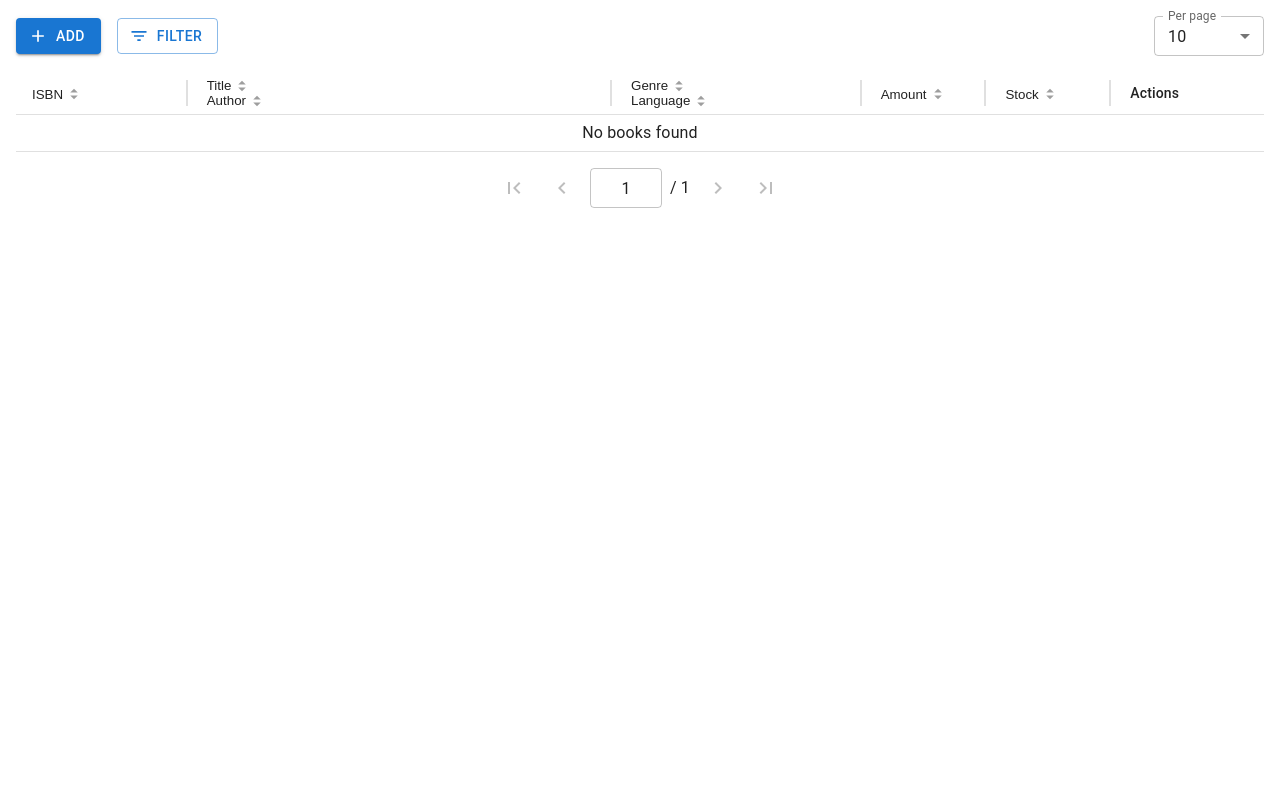
it: CataloguePage › shows an empty state and a load error
The width and height of the screenshot is (1280, 800).
Expected: the text with test id "catalogue-empty" reads "No books found", [582, 123, 698, 142]
Click the button with test id "catalogue-filter": (168,36) [117, 18, 218, 54]
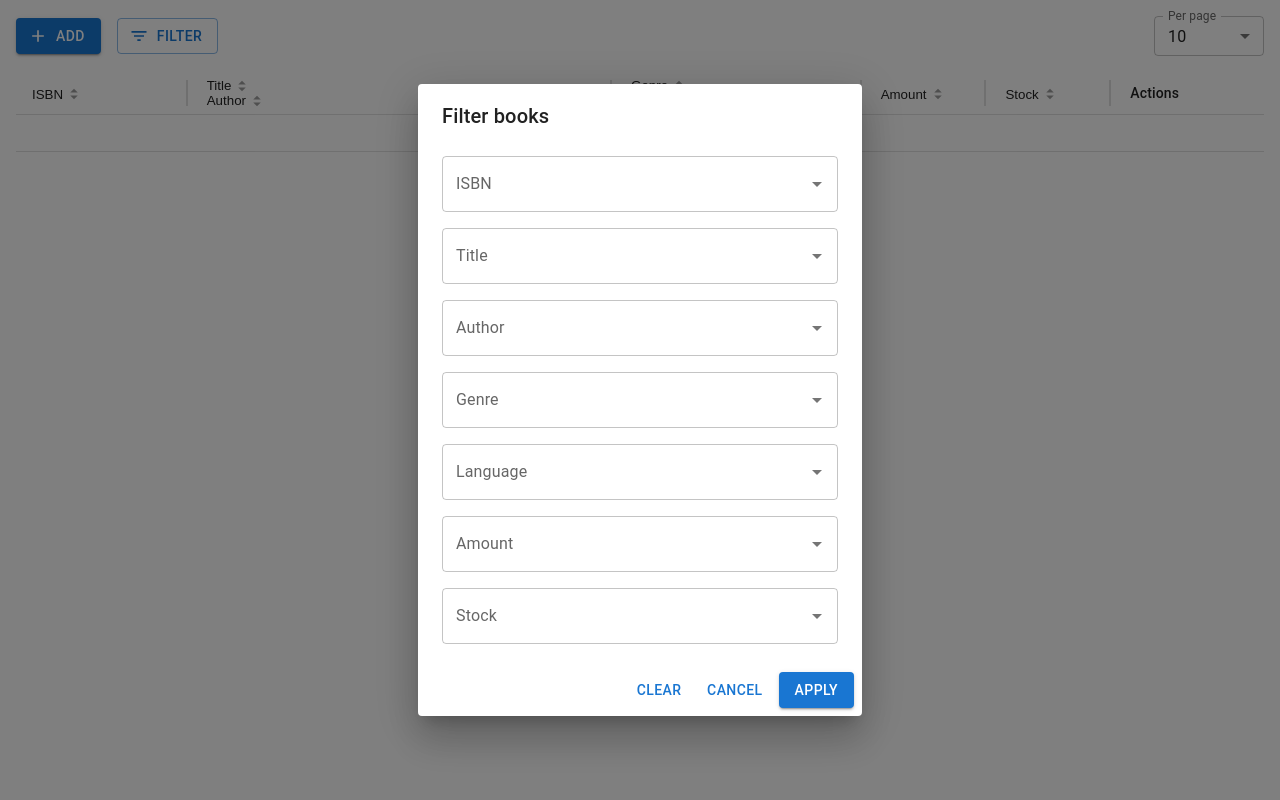
In the dropdown with test id "filter-title": (625,256) [451, 237, 799, 275], type "Du"
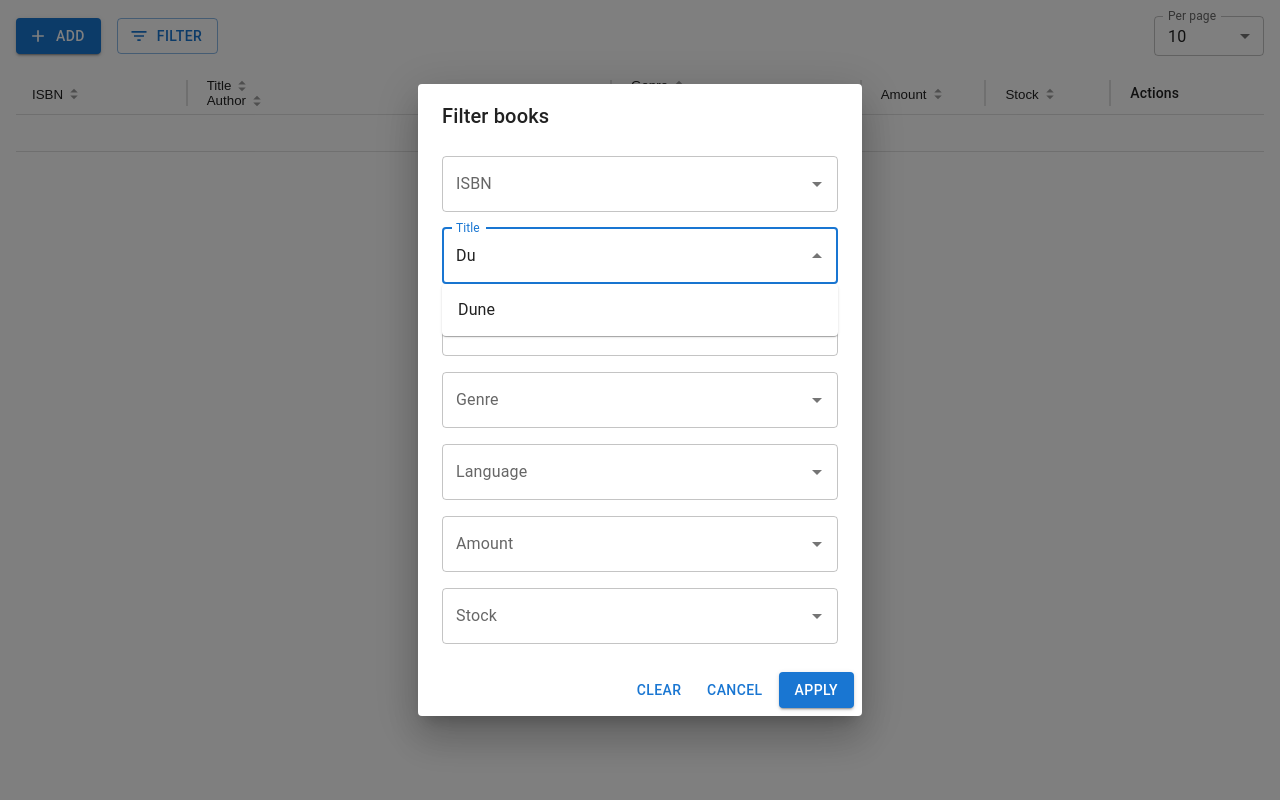
Click the option "Dune": (477,310) [458, 300, 495, 319]
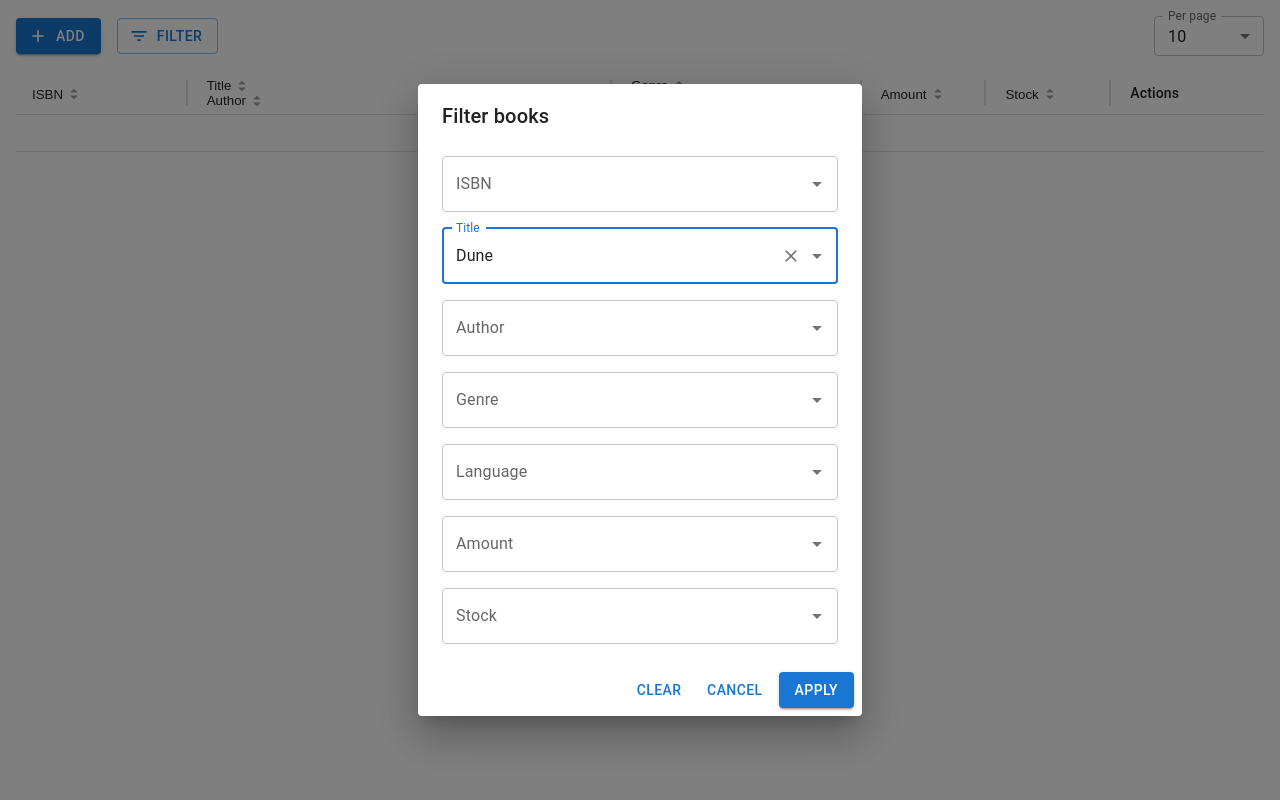
Click the button with test id "filter-apply": (816,690) [779, 672, 854, 708]
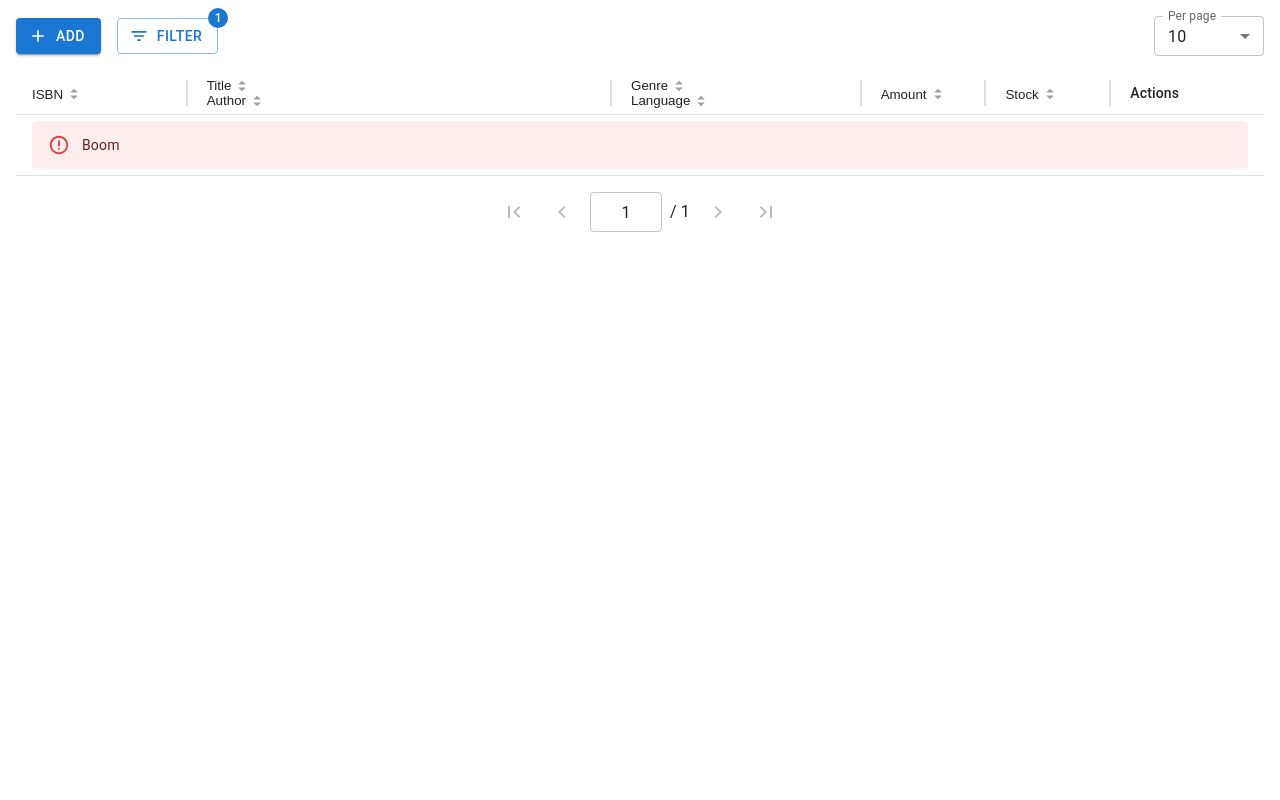
Now the message with test id "catalogue-error" reads "Boom", box [82, 137, 120, 153]
